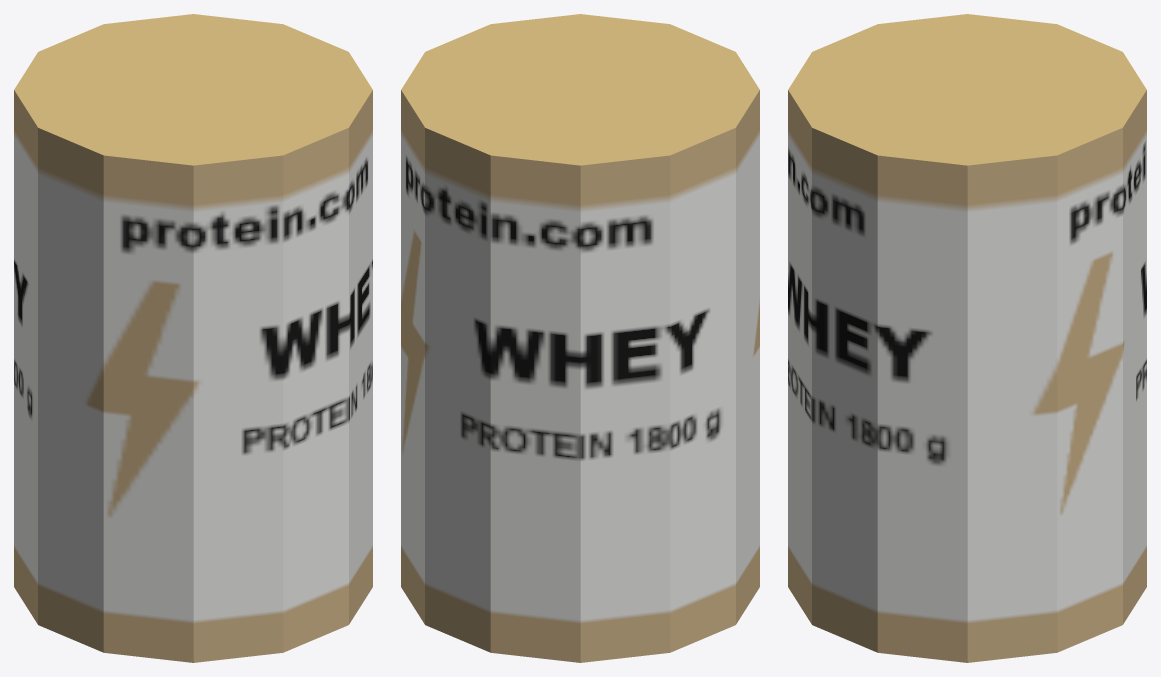
Rendered from tub_whey.glb.
3 renders of one model, left to right at view 1: azimuth 30°, elevation 25°; view 2: azimuth 150°, elevation 25°; view 3: azimuth 270°, elevation 25°, orthographic.
Parts seen in each view (by area): view 1: tub_whey; view 2: tub_whey; view 3: tub_whey.
Part boxes in pixels (box(x1,y1,x2,y2)): tub_whey: box(14, 14, 372, 662); tub_whey: box(401, 14, 759, 662); tub_whey: box(788, 14, 1146, 662).
Bounding box in the file's own units: 0.17 × 0.26 × 0.17.
1 material, 1 textured.
